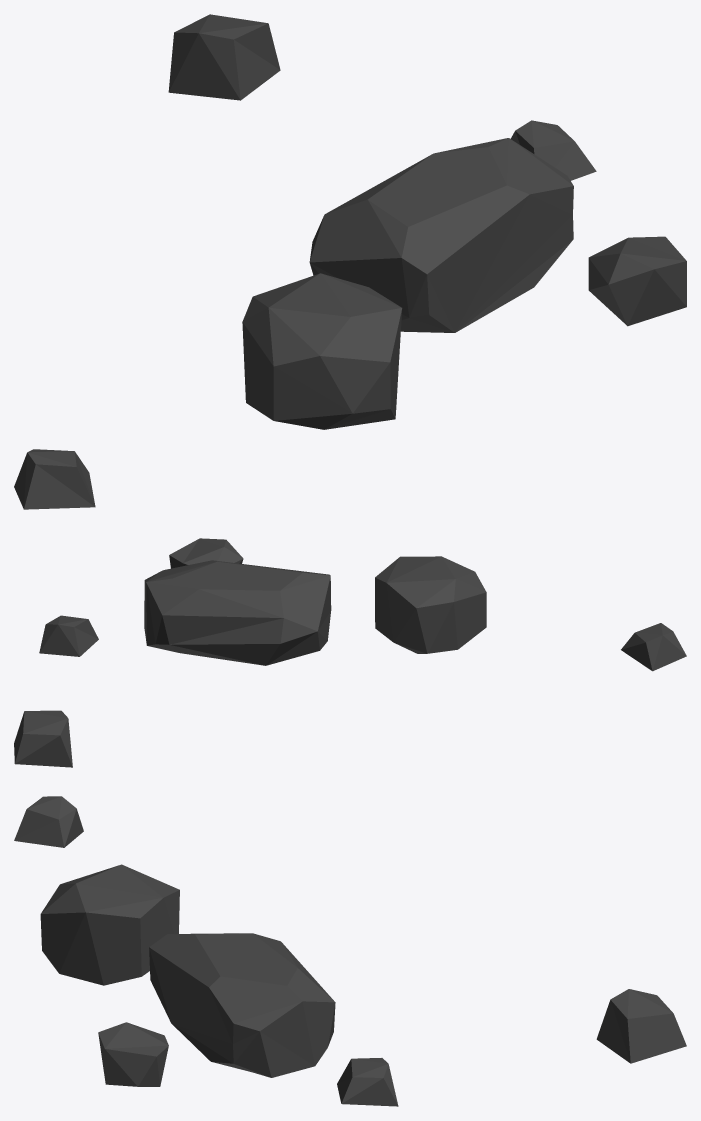
File: rock_02_b.FBX
3 views of the same model, one above another, from view 1: azimuth 30°, elevation 25°; view 2: azimuth 150°, elevation 25°; view 3: azimuth 270°, elevation 25° (orthographic). The views are drawn at different scales.
Parts seen in each view (by area): view 1: rock_02_b; view 2: rock_02_b; view 3: rock_02_b.
Part boxes in pixels (x1,y1,x2,y2): rock_02_b: (14, 14, 686, 509); rock_02_b: (14, 538, 686, 767); rock_02_b: (14, 796, 686, 1106).
Bounding box in the file's own units: 16.58 × 2.19 × 16.46.
